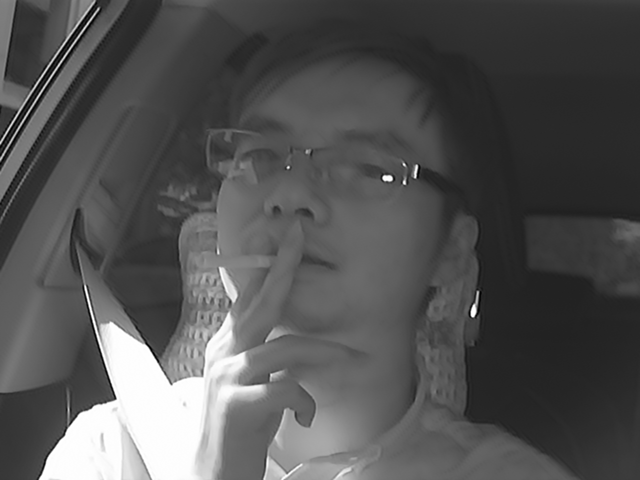hand: (201, 227, 368, 444)
